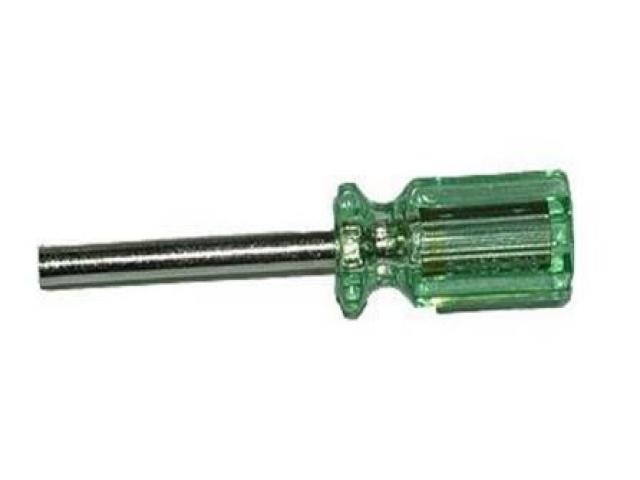Screwdriver: (39, 170, 574, 318)
